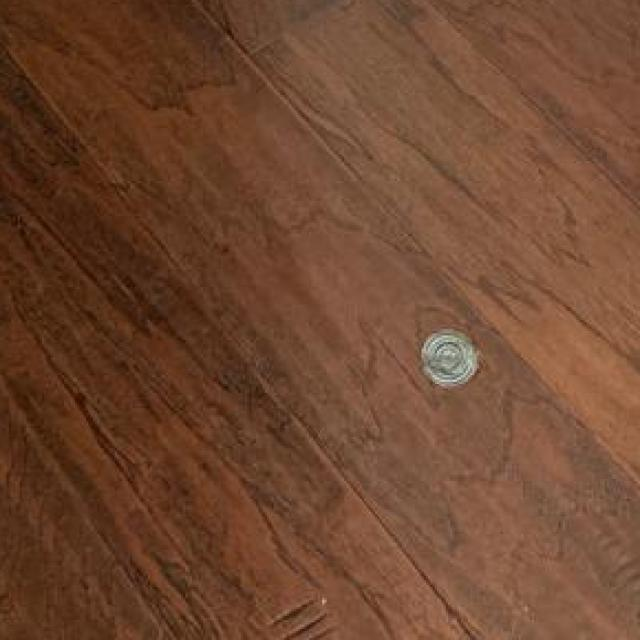logam: (425, 328, 482, 383)
